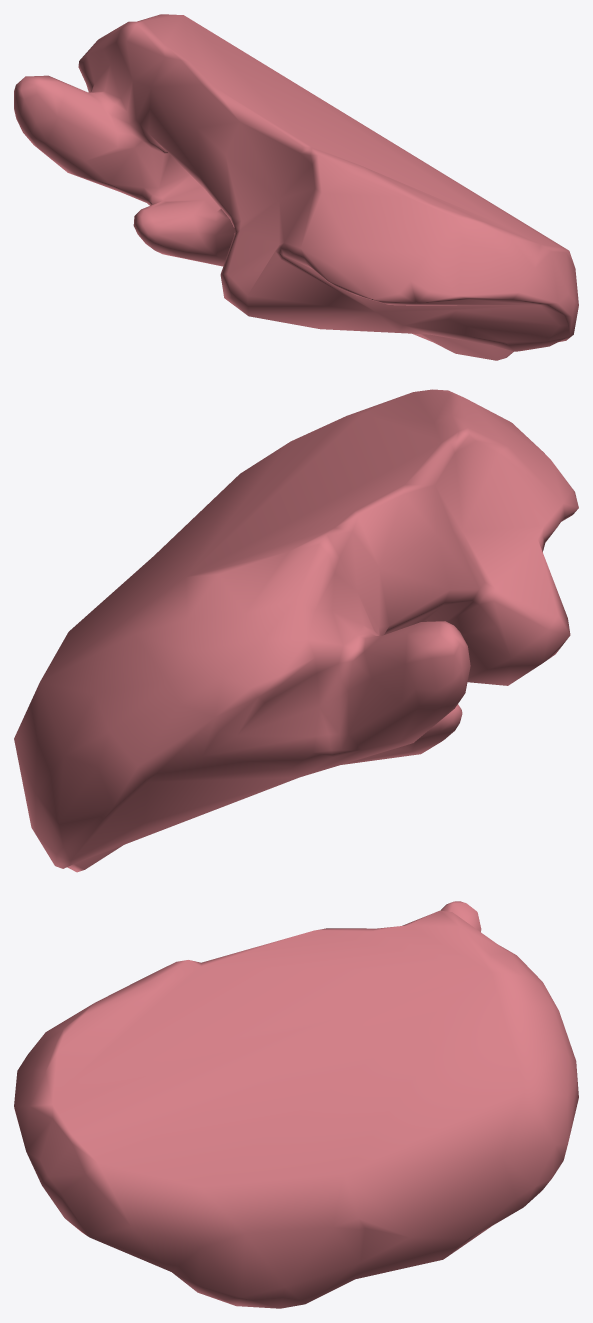
3 views of the same model, one above another, from view 1: azimuth 30°, elevation 25°; view 2: azimuth 150°, elevation 25°; view 3: azimuth 270°, elevation 25° (orthographic). The views are drawn at different scales.
Parts seen in each view (by area): view 1: 右心室隔侧乳头肌; view 2: 右心室隔侧乳头肌; view 3: 右心室隔侧乳头肌.
Boxes of the visible parts, x1,y1,x2,y2 form: 右心室隔侧乳头肌: (14,14,578,360); 右心室隔侧乳头肌: (14,389,578,872); 右心室隔侧乳头肌: (14,901,578,1308).
Size of the model in its own units: 0.0297 by 0.0234 by 0.0409.
